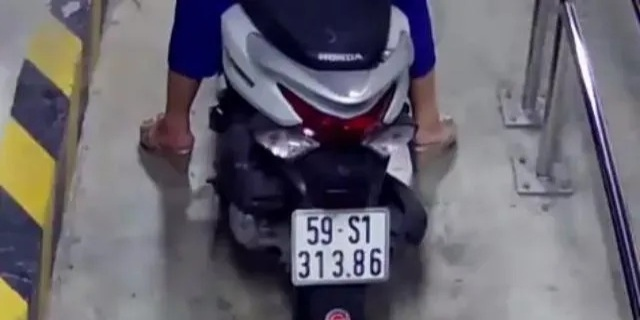bien_so: (291, 211, 389, 282)
